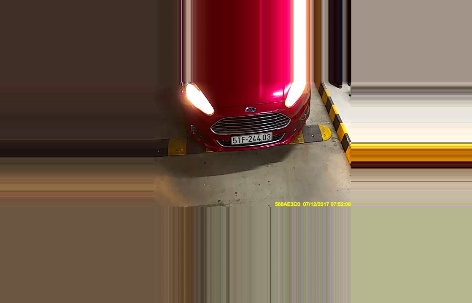plate: (229, 131, 273, 146)
